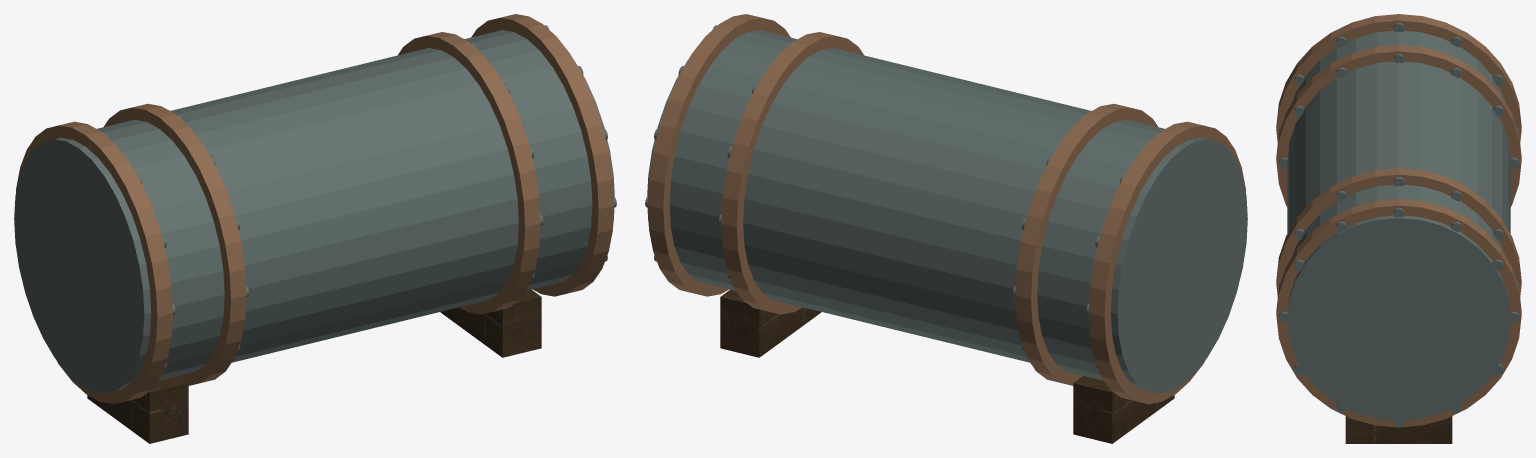
File: pipe-target-rebuilt.glb
3 renders of one model, left to right at view 1: azimuth 30°, elevation 25°; view 2: azimuth 150°, elevation 25°; view 3: azimuth 270°, elevation 25°, orthographic. The views are drawn at different scales.
Visible parts, largest first — view 1: 主排水管, 生锈法兰, 生锈法兰.003, 生锈法兰.002, 生锈法兰.001, 管道支座, 管道支座.001; view 2: 主排水管, 生锈法兰, 生锈法兰.003, 生锈法兰.002, 生锈法兰.001, 管道支座, 管道支座.001; view 3: 主排水管, 生锈法兰.003, 生锈法兰.001, 生锈法兰, 生锈法兰.002, 管道支座.001.
Part boxes in pixels (<box>): 主排水管: <box>14,30,614,393</box>; 生锈法兰: <box>16,121,172,404</box>; 生锈法兰.003: <box>471,14,614,296</box>; 生锈法兰.002: <box>398,32,540,314</box>; 生锈法兰.001: <box>103,103,246,385</box>; 管道支座: <box>87,375,188,443</box>; 管道支座.001: <box>440,289,541,357</box>; 主排水管: <box>647,30,1247,393</box>; 生锈法兰: <box>1089,121,1245,404</box>; 生锈法兰.003: <box>647,14,790,296</box>; 生锈法兰.002: <box>721,32,863,314</box>; 生锈法兰.001: <box>1015,103,1158,385</box>; 管道支座: <box>1073,375,1174,443</box>; 管道支座.001: <box>720,289,821,357</box>; 主排水管: <box>1287,30,1510,420</box>; 生锈法兰.003: <box>1276,199,1521,427</box>; 生锈法兰.001: <box>1276,45,1521,206</box>; 生锈法兰: <box>1276,14,1521,142</box>; 生锈法兰.002: <box>1276,168,1521,296</box>; 管道支座.001: <box>1345,416,1452,443</box>.
Size of the model in its own units: 4.8 by 2.86 by 2.52.
Materials: 3 (1 with a texture image).
